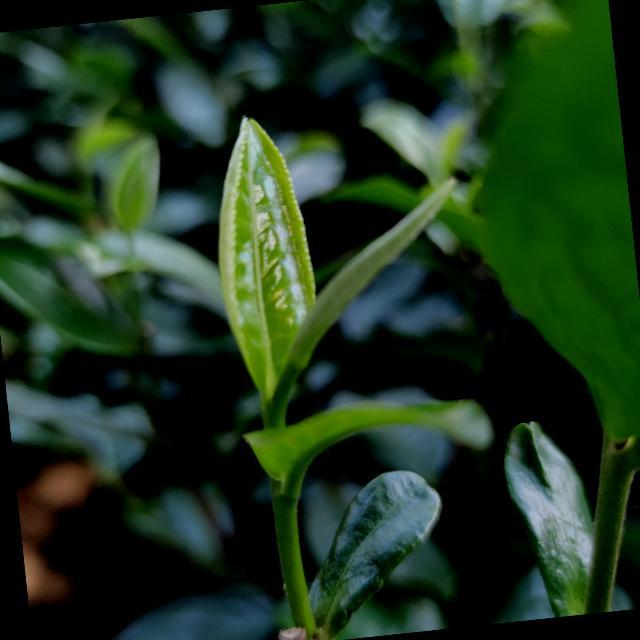Stem: (275, 498, 296, 524)
